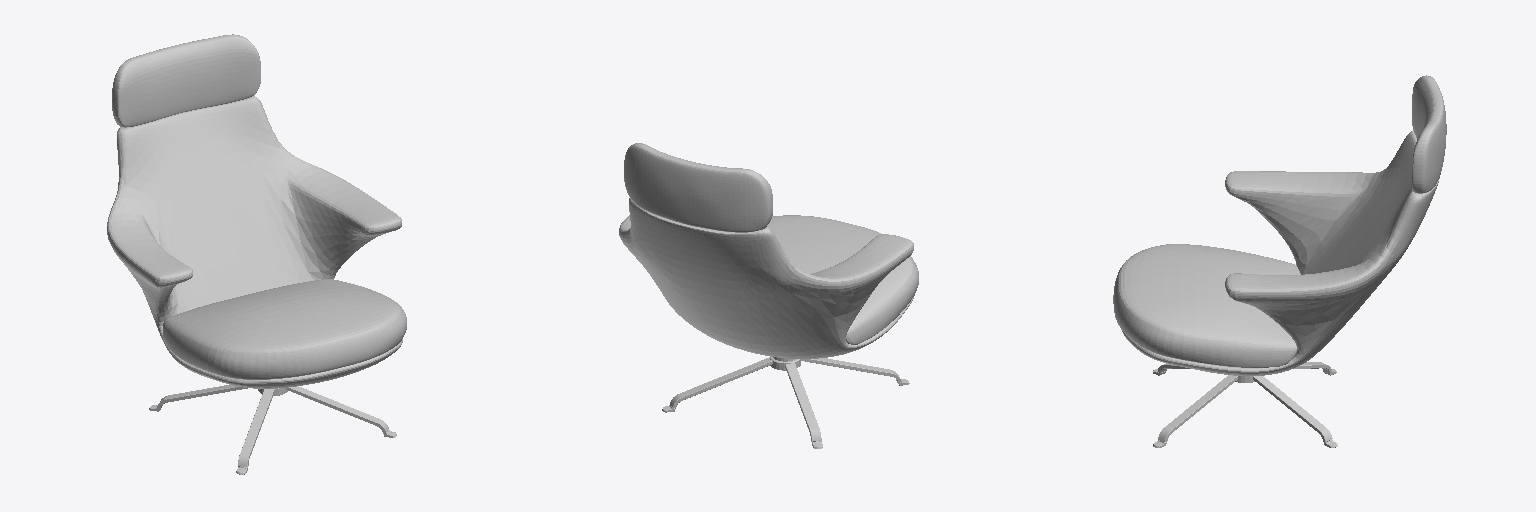
Rendered from armchair 001.obj.
3 views of the same model, side by side, from view 1: azimuth 30°, elevation 25°; view 2: azimuth 150°, elevation 25°; view 3: azimuth 270°, elevation 25° (orthographic).
Parts seen in each view (by area): view 1: obj_02, obj_01, obj_03, obj_04; view 2: obj_02, obj_03, obj_01, obj_04; view 3: obj_02, obj_01, obj_03, obj_04.
Boxes of the visible parts, x1=… form: obj_02: x1=107, y1=96, x2=402, y2=388; obj_01: x1=163, y1=279, x2=406, y2=379; obj_03: x1=112, y1=34, x2=260, y2=127; obj_04: x1=149, y1=385, x2=396, y2=474; obj_02: x1=619, y1=198, x2=914, y2=358; obj_03: x1=624, y1=143, x2=772, y2=232; obj_01: x1=767, y1=215, x2=918, y2=344; obj_04: x1=662, y1=357, x2=909, y2=448; obj_02: x1=1121, y1=130, x2=1439, y2=375; obj_01: x1=1113, y1=244, x2=1300, y2=367; obj_03: x1=1412, y1=75, x2=1446, y2=193; obj_04: x1=1153, y1=362, x2=1337, y2=447.
Bounding box in the file's own units: 35.22 × 41.74 × 41.02.